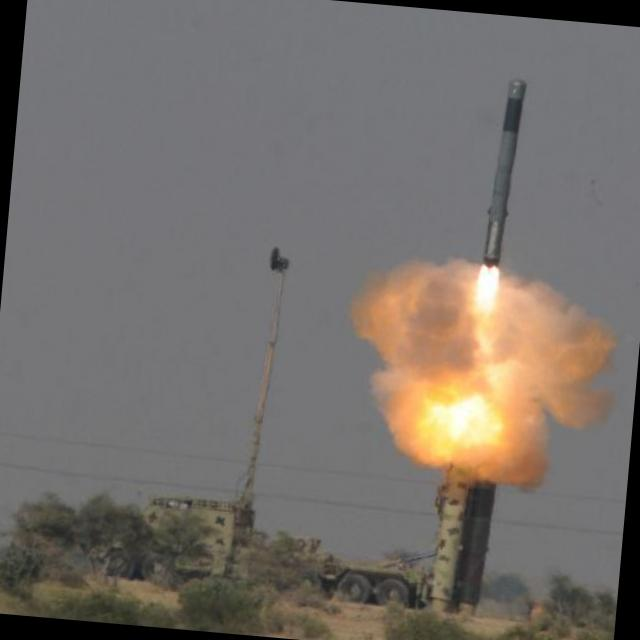rocket: (468, 69, 532, 305)
